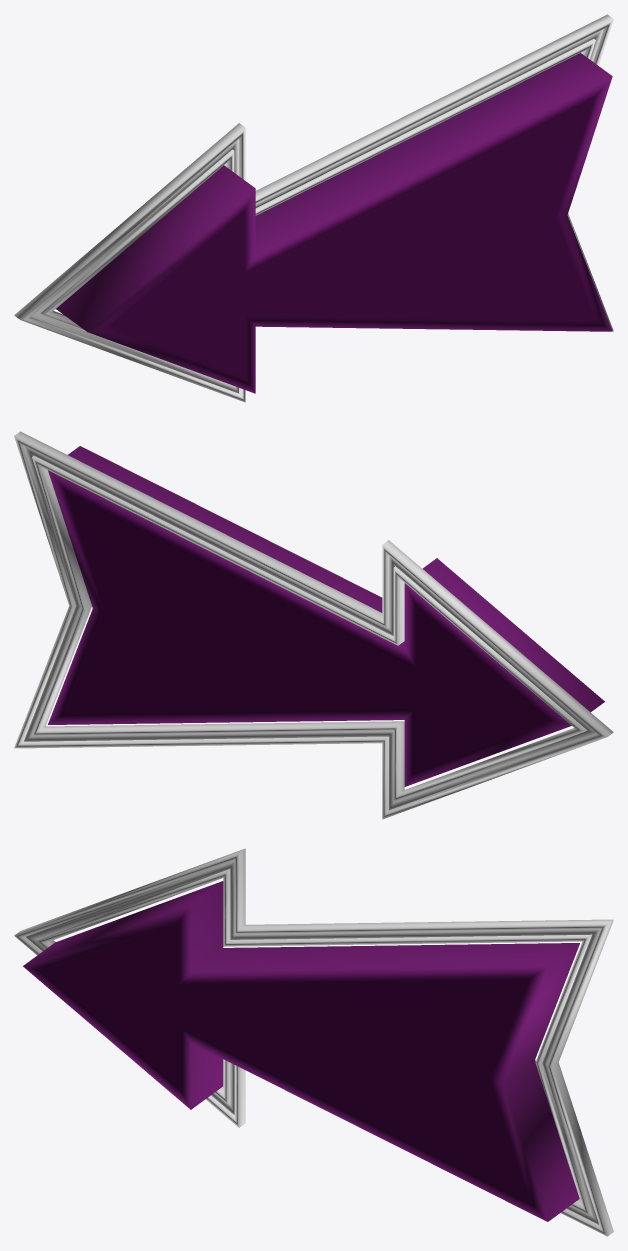
Rendered from Arrow_01.fbx.
The picture shows the model from 3 angles, top to bottom: view 1: azimuth 30°, elevation 25°; view 2: azimuth 150°, elevation 25°; view 3: azimuth 330°, elevation 25°; orthographic projection.
Parts seen in each view (by area): view 1: Inside, Outside; view 2: Inside, Outside; view 3: Inside, Outside.
Part boxes in pixels (x1,y1,x2,y2): Inside: [56, 53, 612, 393]; Outside: [14, 14, 613, 402]; Inside: [48, 446, 604, 786]; Outside: [14, 431, 613, 819]; Inside: [23, 881, 579, 1221]; Outside: [14, 848, 613, 1236].
Bounding box in the file's own units: 529 × 266 × 55.
